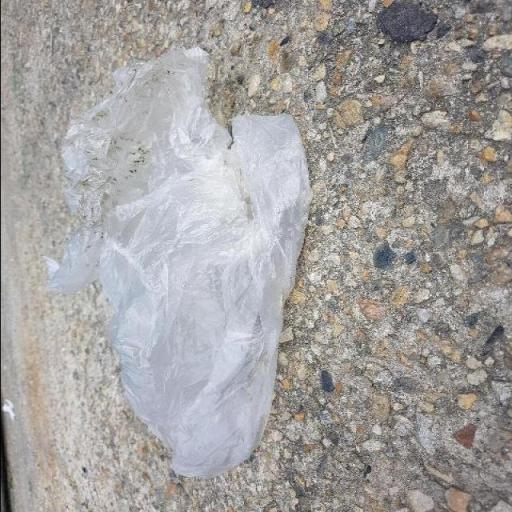plastic-bag: (42, 47, 316, 482)
